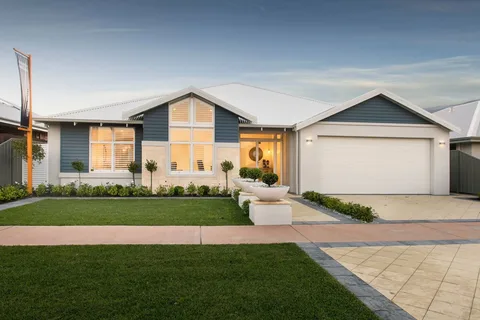private_hause: (53, 94, 296, 191)
